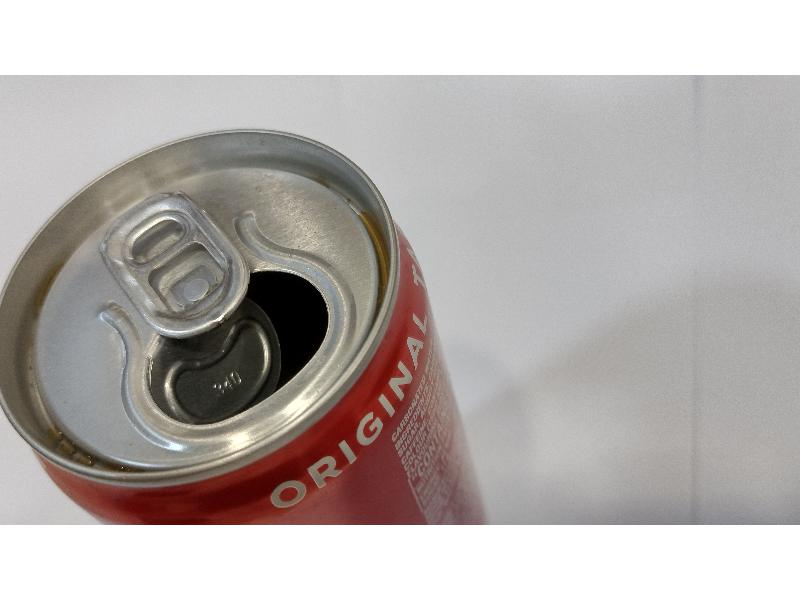can: (1, 117, 510, 522)
